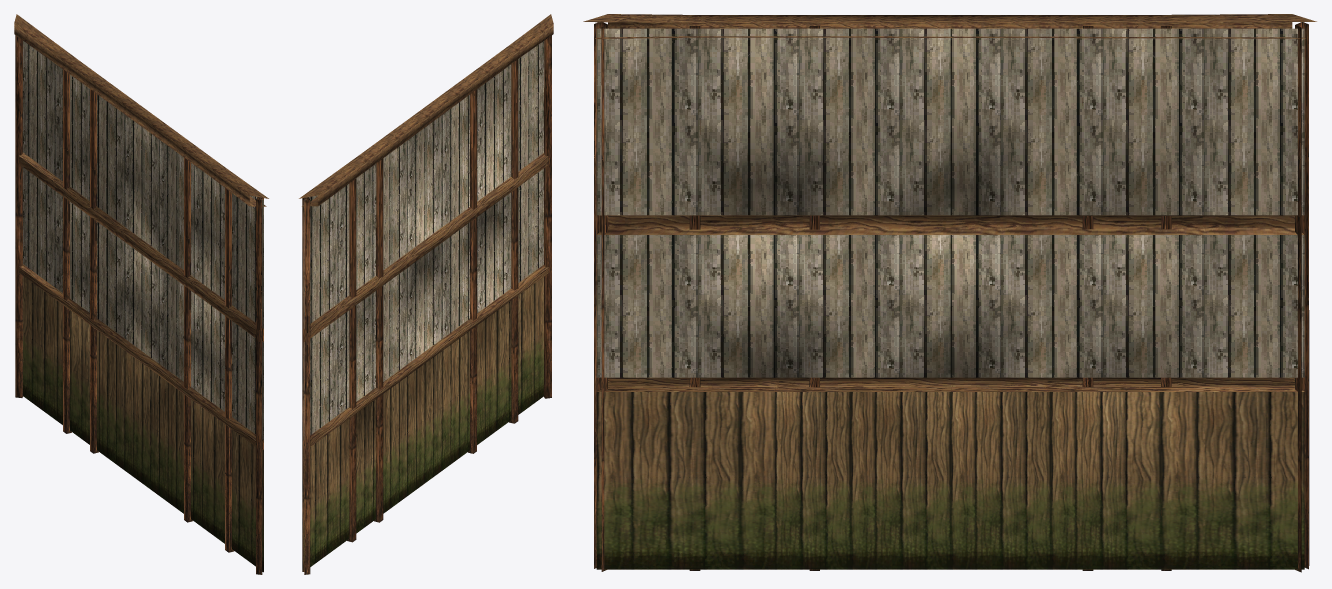
Rendered from LAKETOWN_WAREHOUSE3_PS_WH3_SIDEWALL3838__GX.fbx.
3 views of the same model, side by side, from view 1: azimuth 30°, elevation 25°; view 2: azimuth 150°, elevation 25°; view 3: azimuth 270°, elevation 25° (orthographic). The views are drawn at different scales.
Parts seen in each view (by area): view 1: LAKETOWN_WAREHOUSE3_PS_WH3_SIDEWALL3838__GX; view 2: LAKETOWN_WAREHOUSE3_PS_WH3_SIDEWALL3838__GX; view 3: LAKETOWN_WAREHOUSE3_PS_WH3_SIDEWALL3838__GX.
Boxes of the visible parts, bbox=[...] form: LAKETOWN_WAREHOUSE3_PS_WH3_SIDEWALL3838__GX: bbox=[14, 14, 268, 574]; LAKETOWN_WAREHOUSE3_PS_WH3_SIDEWALL3838__GX: bbox=[299, 14, 553, 574]; LAKETOWN_WAREHOUSE3_PS_WH3_SIDEWALL3838__GX: bbox=[583, 14, 1316, 572].
Bounding box in the file's own units: 4885 × 136952 × 165440.
6 materials, 6 textured.
